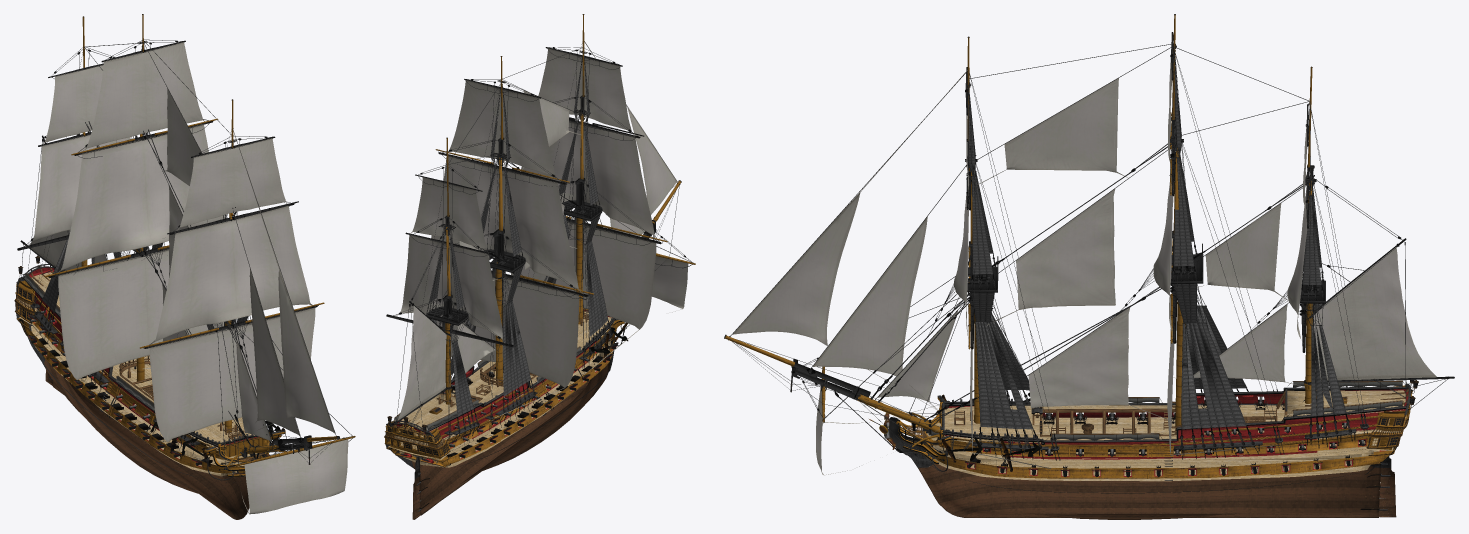
File: ship_agamemnon.glb
3 renders of one model, left to right at view 1: azimuth 30°, elevation 25°; view 2: azimuth 150°, elevation 25°; view 3: azimuth 270°, elevation 25°, orthographic. The views are drawn at different scales.
Visible parts, largest first — view 1: Object_42, Object_10, Object_4, Object_92, Object_20, Object_6, Object_132, Object_26, Object_78, Object_8, Object_82, Object_90 (+8 smaller); view 2: Object_42, Object_10, Object_40, Object_6, Object_20, Object_92, Object_8, Object_132, Object_50, Object_14, Object_78, Object_4 (+10 smaller); view 3: Object_26, Object_92, Object_40, Object_4, Object_132, Object_20, Object_50, Object_6, Object_78, Object_14, Object_88, Object_8 (+9 smaller).
Part boxes in pixels (<box>): Object_42: <box>26,124,315,442</box>; Object_10: <box>41,42,348,514</box>; Object_4: <box>233,129,335,441</box>; Object_92: <box>44,359,249,519</box>; Object_20: <box>21,39,352,480</box>; Object_6: <box>17,14,344,470</box>; Object_132: <box>18,272,261,476</box>; Object_26: <box>94,88,224,368</box>; Object_78: <box>23,313,261,473</box>; Object_8: <box>44,14,355,466</box>; Object_82: <box>15,255,284,467</box>; Object_90: <box>14,280,285,476</box>; Object_42: <box>394,121,659,420</box>; Object_10: <box>410,48,688,312</box>; Object_40: <box>429,61,607,416</box>; Object_6: <box>386,14,685,444</box>; Object_20: <box>392,41,692,459</box>; Object_92: <box>412,364,607,519</box>; Object_8: <box>435,14,695,404</box>; Object_132: <box>388,311,614,467</box>; Object_50: <box>397,305,446,420</box>; Object_14: <box>429,54,608,415</box>; Object_78: <box>392,324,615,465</box>; Object_4: <box>584,41,677,236</box>; Object_26: <box>977,78,1304,422</box>; Object_92: <box>918,464,1396,519</box>; Object_40: <box>968,68,1346,429</box>; Object_4: <box>732,70,967,413</box>; Object_132: <box>927,390,1406,481</box>; Object_20: <box>730,33,1448,471</box>; Object_50: <box>1313,247,1436,381</box>; Object_6: <box>724,14,1454,461</box>; Object_78: <box>924,420,1393,478</box>; Object_14: <box>968,51,1345,429</box>; Object_88: <box>945,388,1408,459</box>; Object_8: <box>725,15,1312,447</box>.
Size of the model in its own units: 29.31 by 61.37 by 80.78.
Materials: 33 (33 with a texture image).
